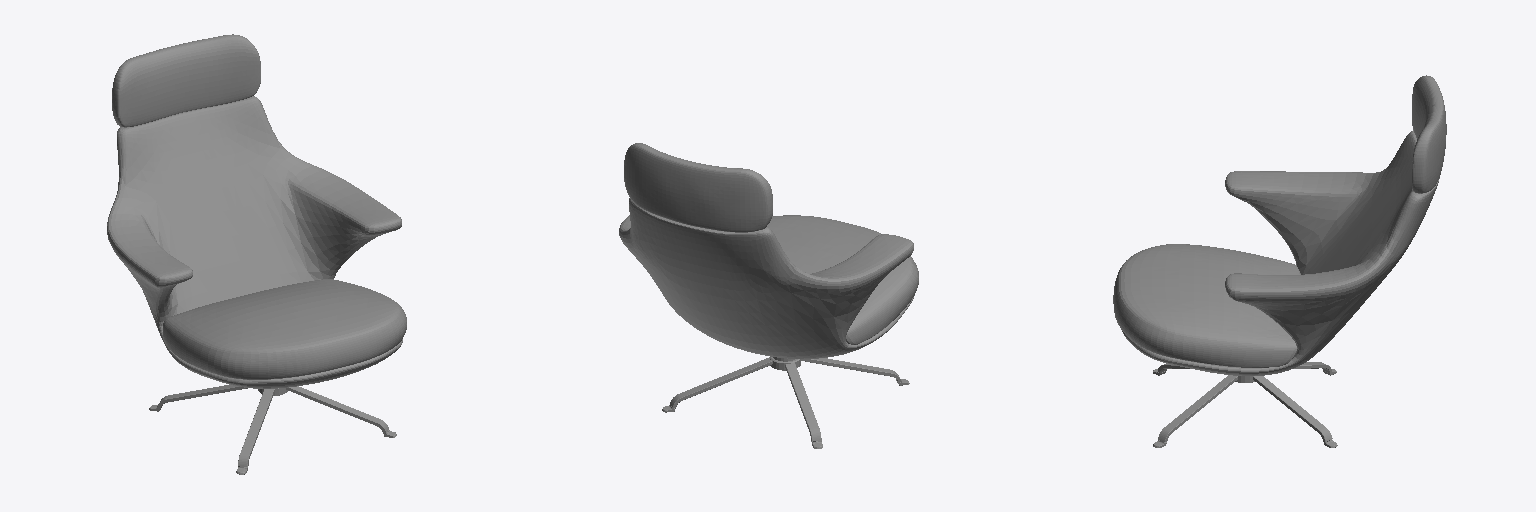
Rendered from mod.obj.
The picture shows the model from 3 angles: view 1: azimuth 30°, elevation 25°; view 2: azimuth 150°, elevation 25°; view 3: azimuth 270°, elevation 25°; orthographic projection.
Visible parts, largest first — view 1: armchair_001; view 2: armchair_001; view 3: armchair_001.
Part boxes in pixels (left/top/right/bottom): armchair_001: left=107, top=34, right=406, bottom=474; armchair_001: left=619, top=143, right=918, bottom=448; armchair_001: left=1113, top=75, right=1446, bottom=447.
Bounding box in the file's own units: 3.09 × 3.66 × 3.6.